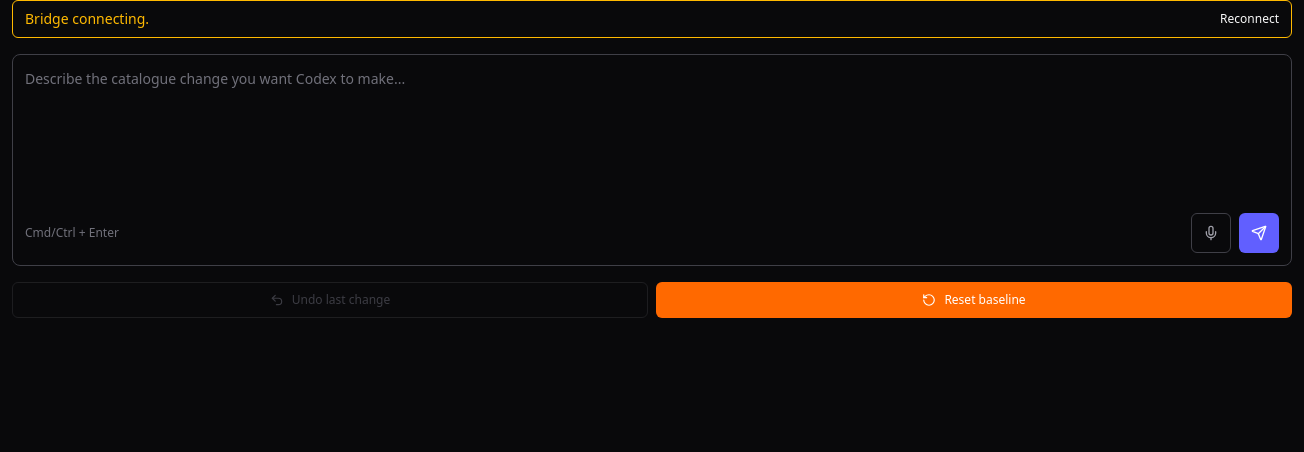
Test case: FeatureRequest › re-enables submit and shows feedback when a feature request fails
Type "Add filters" into the text box with placeholder "Describe the catalogue change you want Codex to make..." at (652, 131), box [25,67,1279,195]
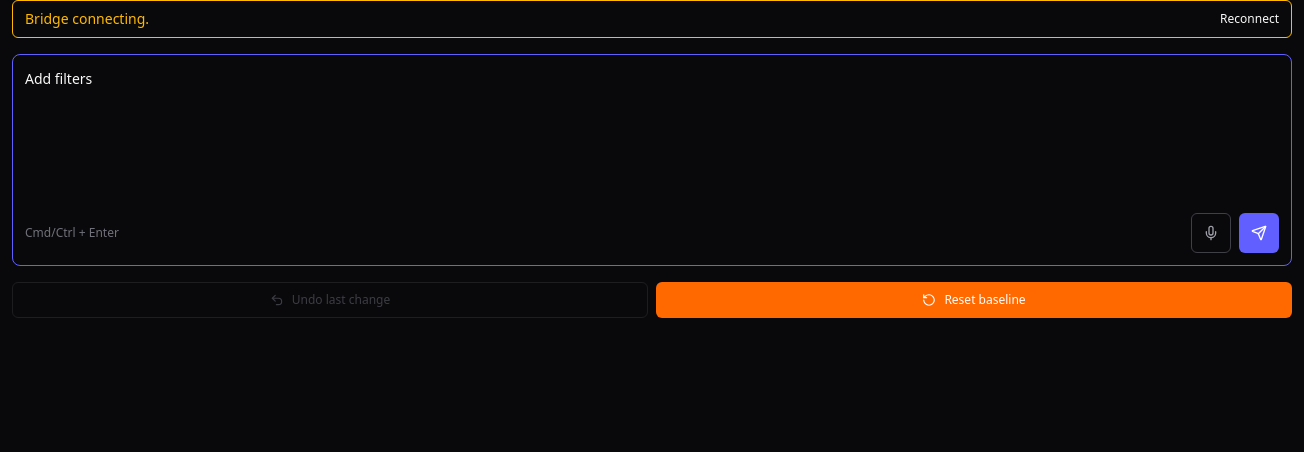
Click the button named "Submit feature request" at (1259, 233), box [1239,213,1279,253]
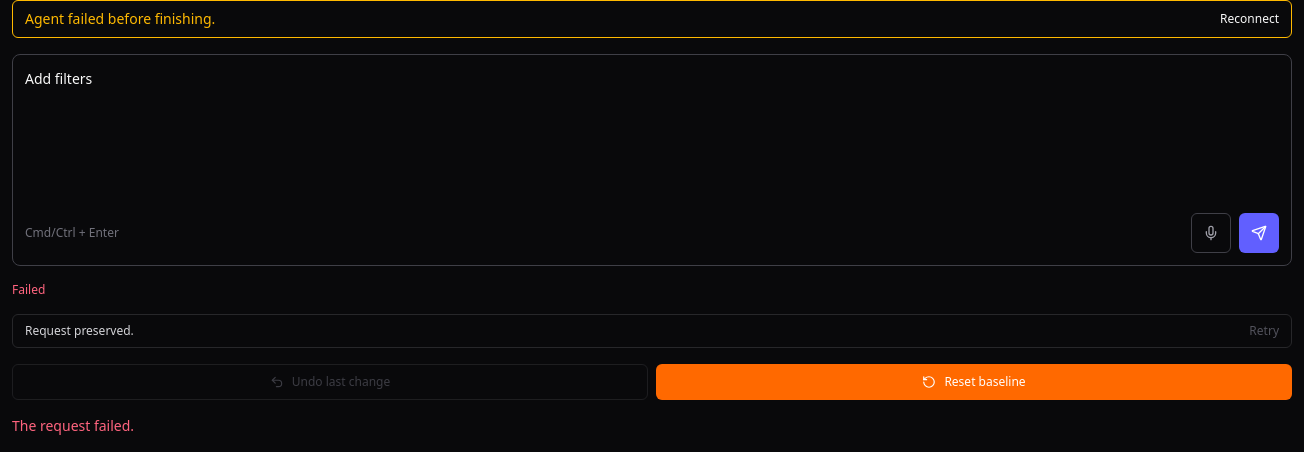
Check: the text "The request failed." is shown, box [12,416,134,435]
Check: the text "Failed" is shown, box [12,281,45,298]
